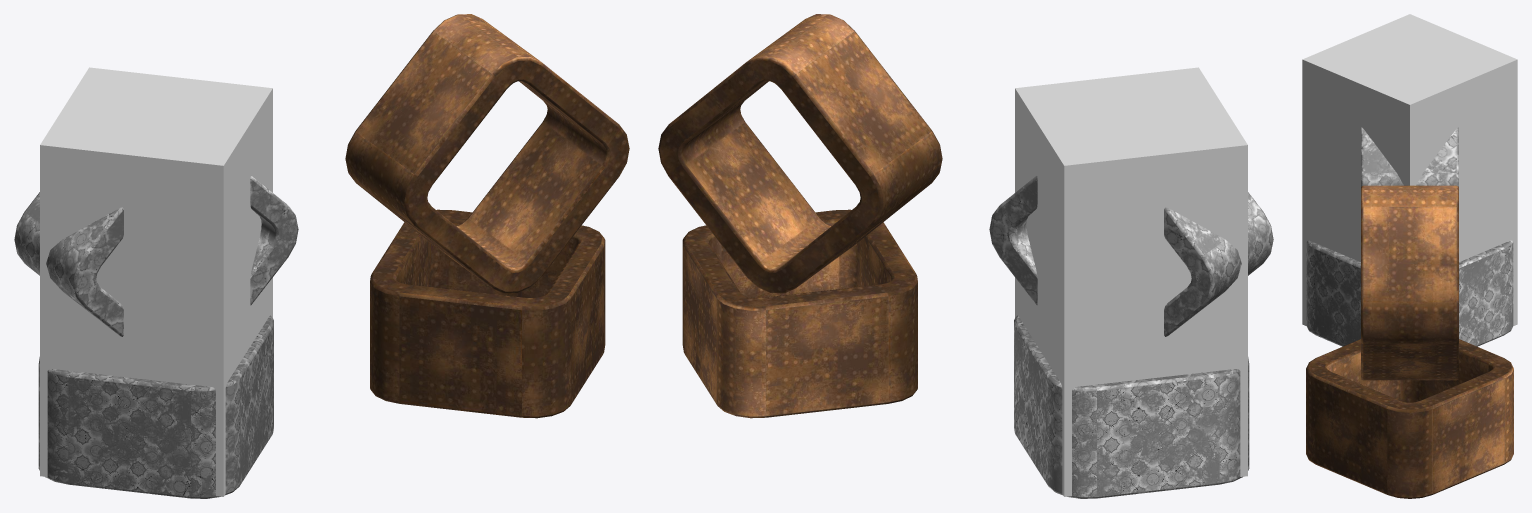
Rendered from test_shapes.glb.
3 views of the same model, side by side, from view 1: azimuth 30°, elevation 25°; view 2: azimuth 150°, elevation 25°; view 3: azimuth 270°, elevation 25° (orthographic). The views are drawn at different scales.
Visible parts, largest first — view 1: BoltMesh, Coll-colonly.001, FloralMesh; view 2: BoltMesh, Coll-colonly.001, FloralMesh; view 3: BoltMesh, Coll-colonly.001, FloralMesh.
Part boxes in pixels (box(x1,y1,x2,y2)): BoltMesh: box(345, 14, 629, 418); Coll-colonly.001: box(40, 67, 272, 496); FloralMesh: box(14, 176, 298, 498); BoltMesh: box(658, 14, 942, 418); Coll-colonly.001: box(1015, 67, 1247, 496); FloralMesh: box(989, 176, 1273, 498); BoltMesh: box(1306, 185, 1513, 498); Coll-colonly.001: box(1302, 14, 1517, 325); FloralMesh: box(1306, 127, 1513, 346).
Size of what is drawn, in the model's own units: 16.92 by 9.63 by 7.04.
Materials: 2 (2 with a texture image).
